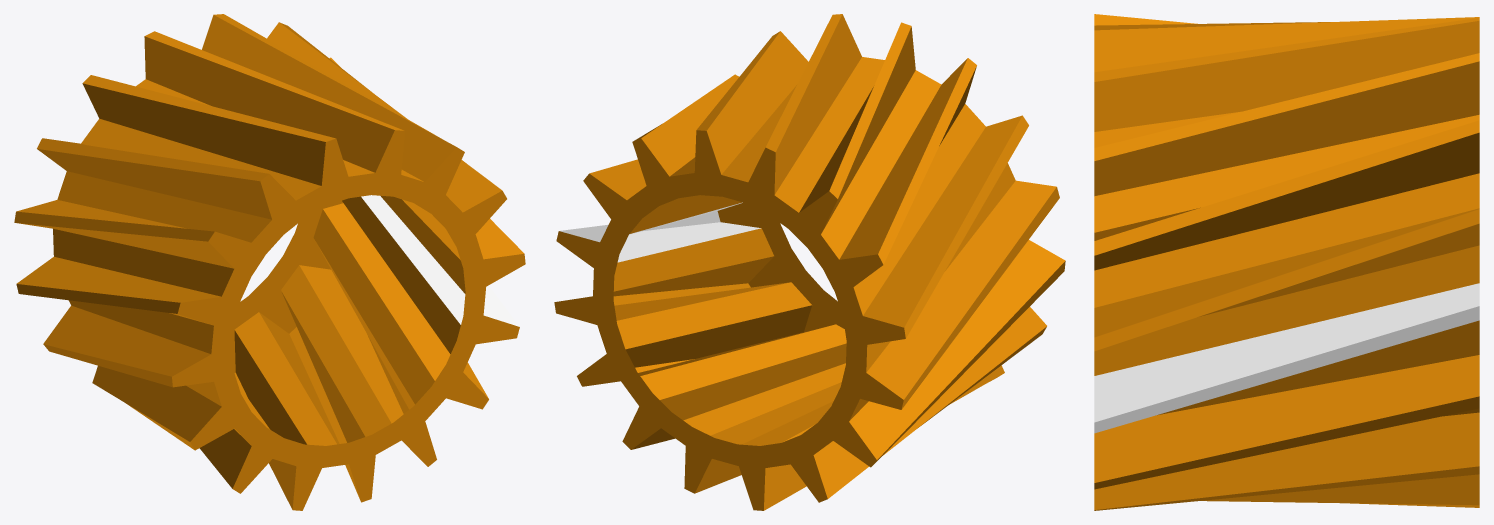
The model's file is 673- planet 3.fbx.
3 views of the same model, side by side, from view 1: azimuth 30°, elevation 25°; view 2: azimuth 150°, elevation 25°; view 3: azimuth 270°, elevation 25° (orthographic). The views are drawn at different scales.
Visible parts, largest first — view 1: 673 planet 3; view 2: 673 planet 3; view 3: 673 planet 3.
Part boxes in pixels (x1,y1,x2,y2): 673 planet 3: (14, 14, 525, 510); 673 planet 3: (554, 14, 1065, 510); 673 planet 3: (1094, 14, 1479, 510).
Bounding box in the file's own units: 257 × 257 × 200.
